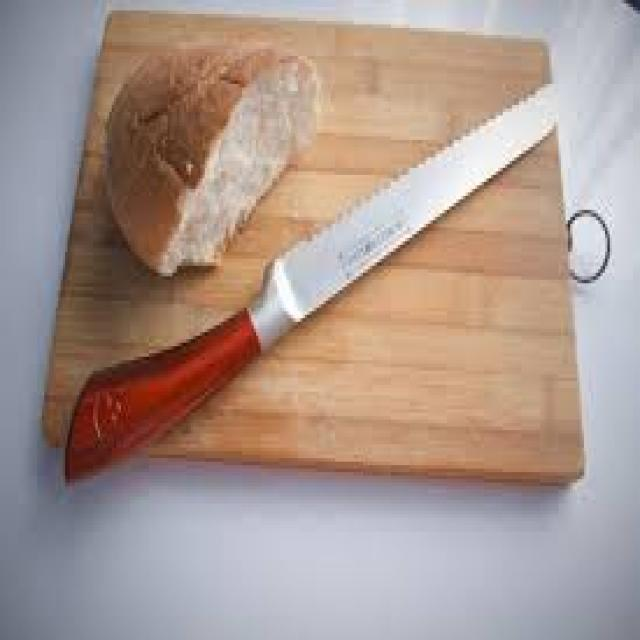Knife: (65, 87, 554, 479)
